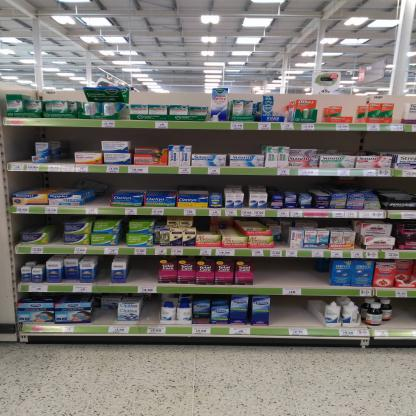Void: (253, 256, 329, 286), (320, 132, 412, 152), (197, 132, 261, 152), (270, 298, 317, 324), (112, 174, 172, 190), (12, 127, 34, 162), (129, 258, 158, 284), (84, 174, 107, 206), (390, 298, 416, 325), (16, 176, 74, 188), (271, 131, 313, 146), (20, 214, 58, 228), (131, 130, 168, 144), (58, 128, 70, 161), (145, 298, 160, 322), (79, 129, 96, 148), (97, 306, 114, 324), (100, 258, 110, 281), (104, 130, 128, 138), (176, 130, 190, 142)
